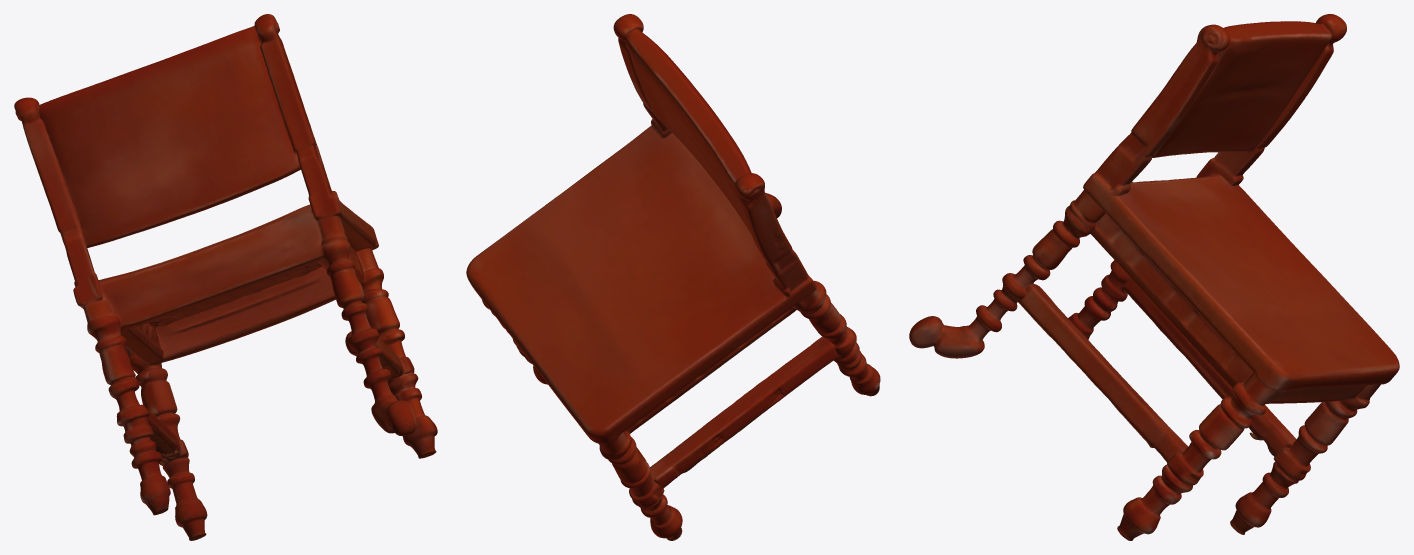
File: pixal3d.glb
3 renders of one model, left to right at view 1: azimuth 30°, elevation 25°; view 2: azimuth 150°, elevation 25°; view 3: azimuth 270°, elevation 25°, orthographic. The views are drawn at different scales.
Visible parts, largest first — view 1: world; view 2: world; view 3: world.
Part boxes in pixels (bbox=[...]): world: bbox=[14, 14, 437, 540]; world: bbox=[466, 14, 880, 540]; world: bbox=[909, 14, 1399, 540].
Bounding box in the file's own units: 0.6068 × 0.9124 × 0.7542.
1 material, 1 textured.
